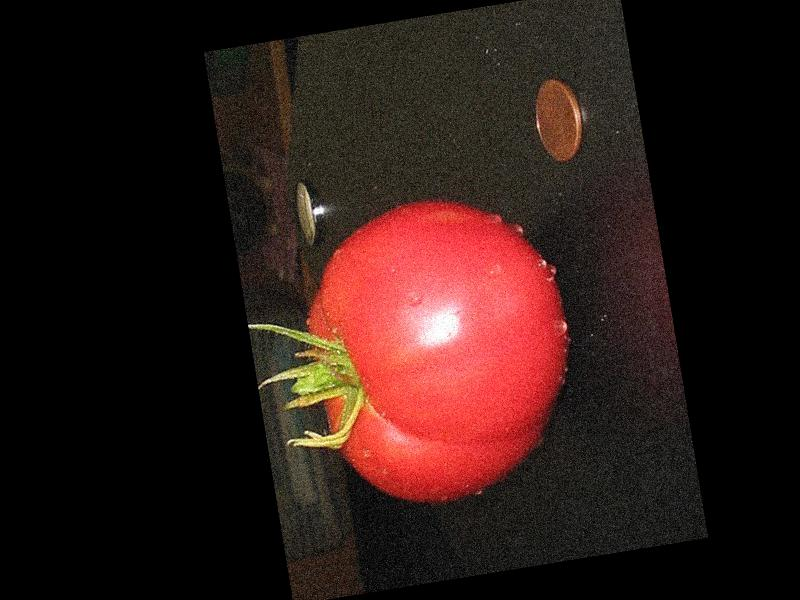Tomato: (289, 182, 592, 520)
